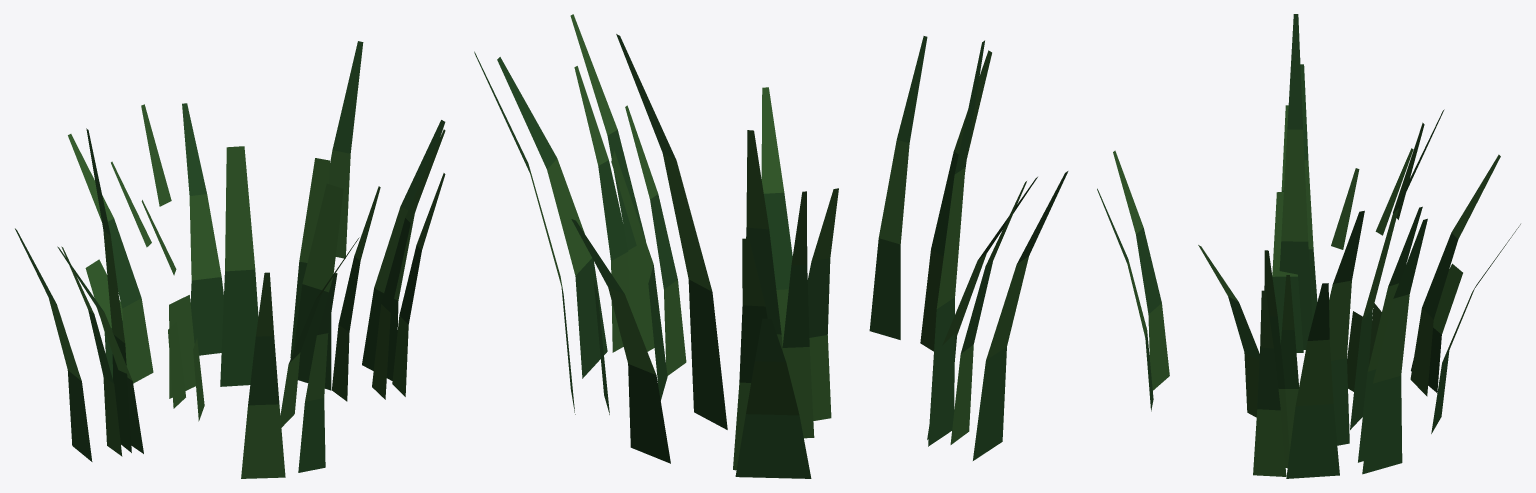
Rendered from grass_green.glb.
The picture shows the model from 3 angles, left to right: view 1: azimuth 30°, elevation 25°; view 2: azimuth 150°, elevation 25°; view 3: azimuth 270°, elevation 25°; orthographic projection. The views are drawn at different scales.
Visible parts, largest first — view 1: Grass_Clump_Green; view 2: Grass_Clump_Green; view 3: Grass_Clump_Green.
Boxes of the visible parts, x1,y1,x2,y2 form: Grass_Clump_Green: (15,41,445,478); Grass_Clump_Green: (474,14,1068,478); Grass_Clump_Green: (1097,14,1520,478).
Bounding box in the file's own units: 1.2 × 0.8642 × 1.02.
